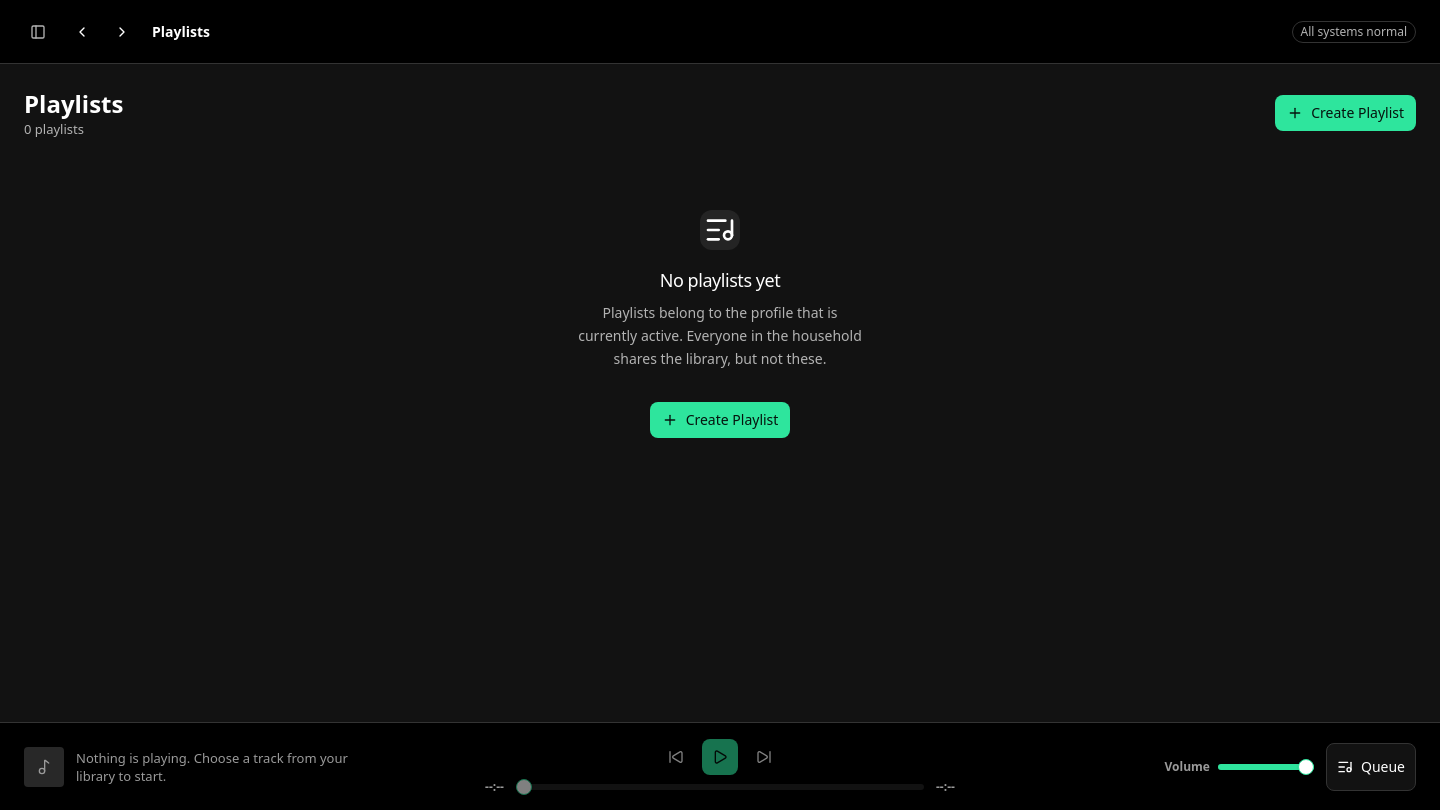
Test: S16 playlist editor › keeps Create disabled while the name is blank
Click the button "Create Playlist" in the row of "0 playlists" at (1346, 113), box [1275,95,1416,131]
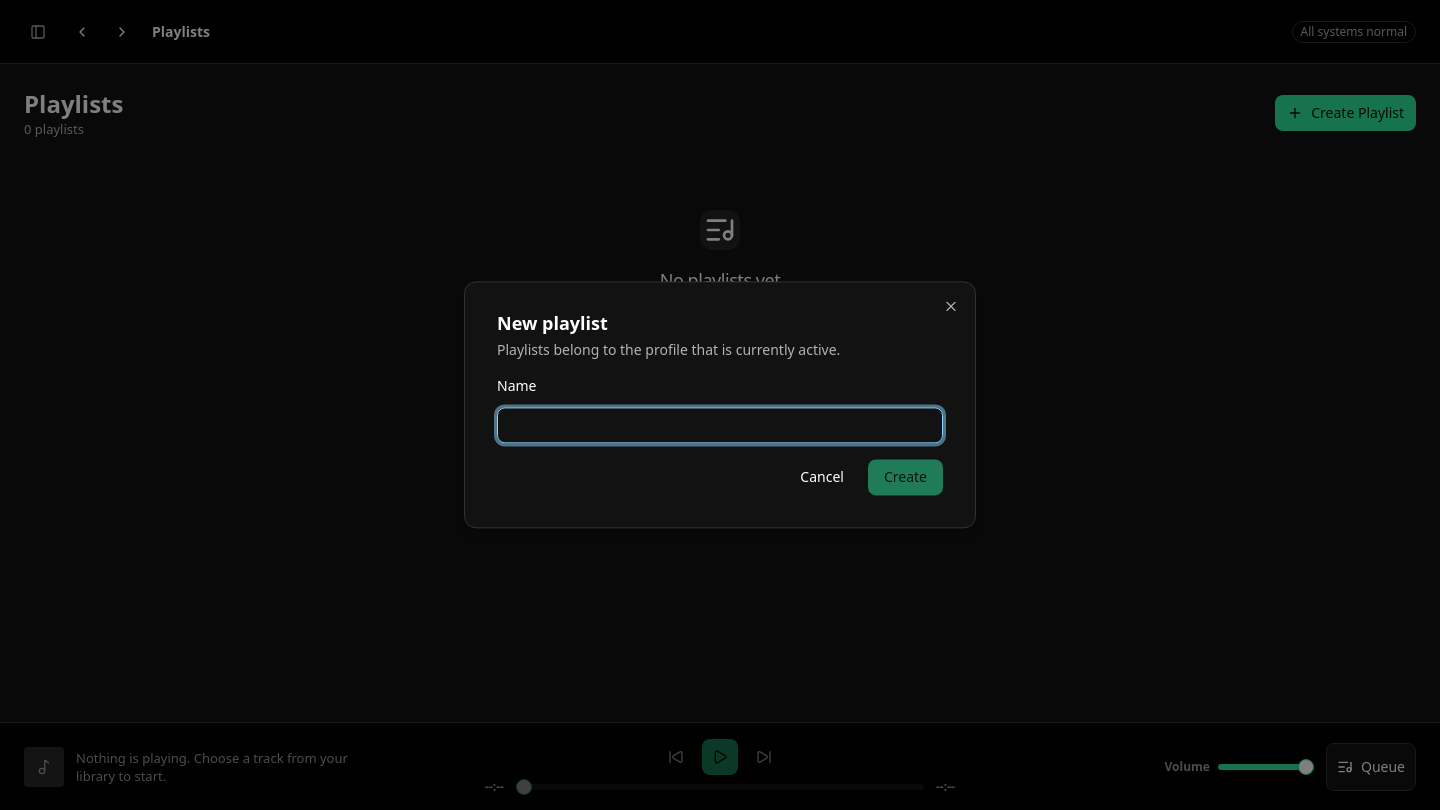
Now the button "Create" is disabled, box [868,460,943,496]
